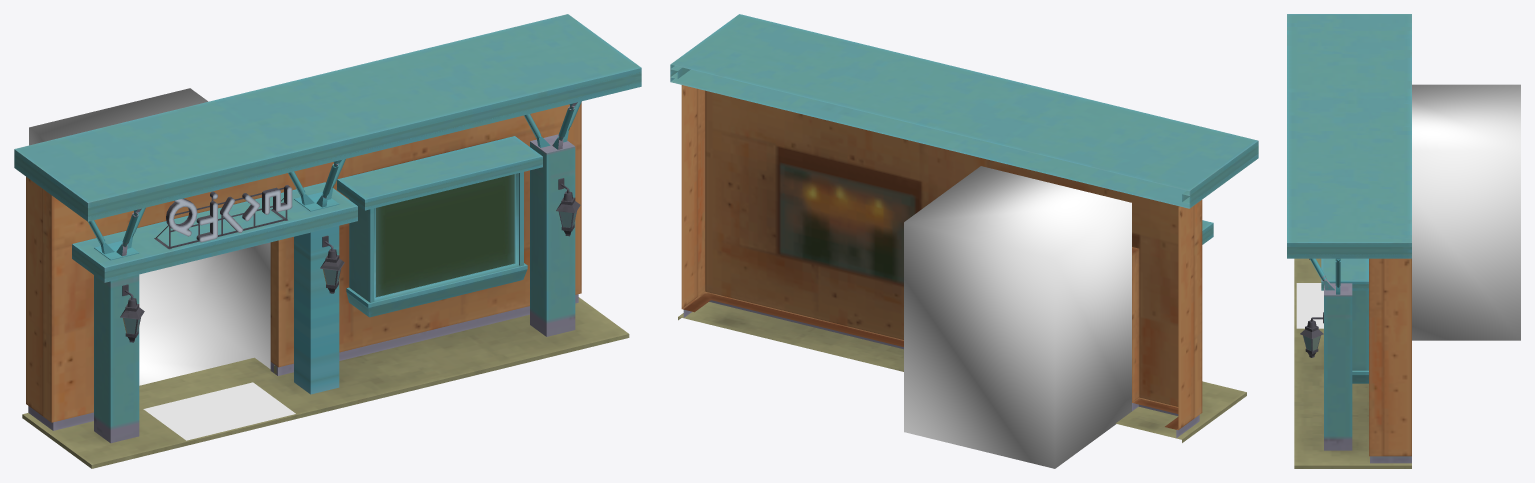
Rendered from objects_un_dressupshoe01.gltf.
3 views of the same model, side by side, from view 1: azimuth 30°, elevation 25°; view 2: azimuth 150°, elevation 25°; view 3: azimuth 270°, elevation 25° (orthographic). The views are drawn at different scales.
Parts seen in each view (by area): view 1: um_objects_un_dressupshoe01_model_lod0Shape:objects_un_dress, nomerge_wall_shape:objects_un_dressupshoe01_obj01, nomerge_objects_un_dressupshoe01_inside01_shape:objects_un_d, um_objects_un_dressupshoe01_model_lod2Shape:objects_un_dress, um_objects_un_dressupshoe01_model_lod1Shape:objects_un_dress (×2), um_objects_un_dressupshoe01_model_lod0Shape:objects_un_shopp; view 2: nomerge_wall_shape:objects_un_dressupshoe01_obj01, nomerge_objects_un_dressupshoe01_inside01_shape:objects_un_d, um_objects_un_dressupshoe01_model_lod0Shape:objects_un_dress, um_objects_un_dressupshoe01_model_lod2Shape:objects_un_dress; view 3: um_objects_un_dressupshoe01_model_lod0Shape:objects_un_dress, nomerge_objects_un_dressupshoe01_inside01_shape:objects_un_d, nomerge_wall_shape:objects_un_dressupshoe01_obj01, um_objects_un_dressupshoe01_model_lod2Shape:objects_un_dress, um_objects_un_dressupshoe01_model_lod0Shape:objects_un_shopp.
Boxes of the visible parts, x1=… form: um_objects_un_dressupshoe01_model_lod0Shape:objects_un_dress: x1=14, y1=14, x2=641, y2=443; nomerge_wall_shape:objects_un_dressupshoe01_obj01: x1=22, y1=102, x2=629, y2=468; nomerge_objects_un_dressupshoe01_inside01_shape:objects_un_d: x1=29, y1=88, x2=270, y2=385; um_objects_un_dressupshoe01_model_lod2Shape:objects_un_dress: x1=14, y1=69, x2=641, y2=317; um_objects_un_dressupshoe01_model_lod1Shape:objects_un_dress (×2): x1=124, y1=173, x2=576, y2=334; um_objects_un_dressupshoe01_model_lod0Shape:objects_un_shopp: x1=143, y1=382, x2=295, y2=440; nomerge_wall_shape:objects_un_dressupshoe01_obj01: x1=678, y1=85, x2=1246, y2=442; nomerge_objects_un_dressupshoe01_inside01_shape:objects_un_d: x1=904, y1=166, x2=1131, y2=468; um_objects_un_dressupshoe01_model_lod0Shape:objects_un_dress: x1=670, y1=14, x2=1258, y2=244; um_objects_un_dressupshoe01_model_lod2Shape:objects_un_dress: x1=670, y1=66, x2=1258, y2=244; um_objects_un_dressupshoe01_model_lod0Shape:objects_un_dress: x1=1287, y1=14, x2=1411, y2=450; nomerge_objects_un_dressupshoe01_inside01_shape:objects_un_d: x1=1412, y1=84, x2=1520, y2=340; nomerge_wall_shape:objects_un_dressupshoe01_obj01: x1=1294, y1=258, x2=1411, y2=468; um_objects_un_dressupshoe01_model_lod2Shape:objects_un_dress: x1=1287, y1=243, x2=1411, y2=383; um_objects_un_dressupshoe01_model_lod0Shape:objects_un_shopp: x1=1296, y1=283, x2=1323, y2=328.
Size of what is drawn, in the model's own units: 7.42 by 3.47 by 3.2.
Materials: 6 (4 with a texture image).
